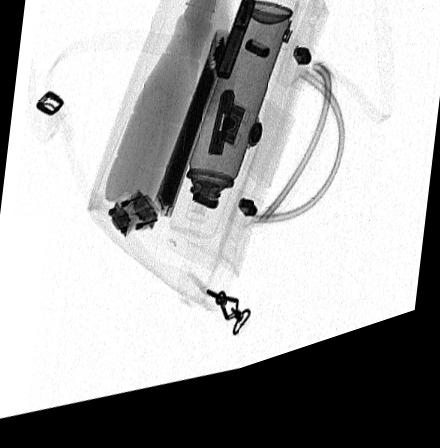Lighter: (215, 12, 257, 93)
Powerbank: (150, 41, 231, 230)
Sprayer: (169, 15, 293, 251)
